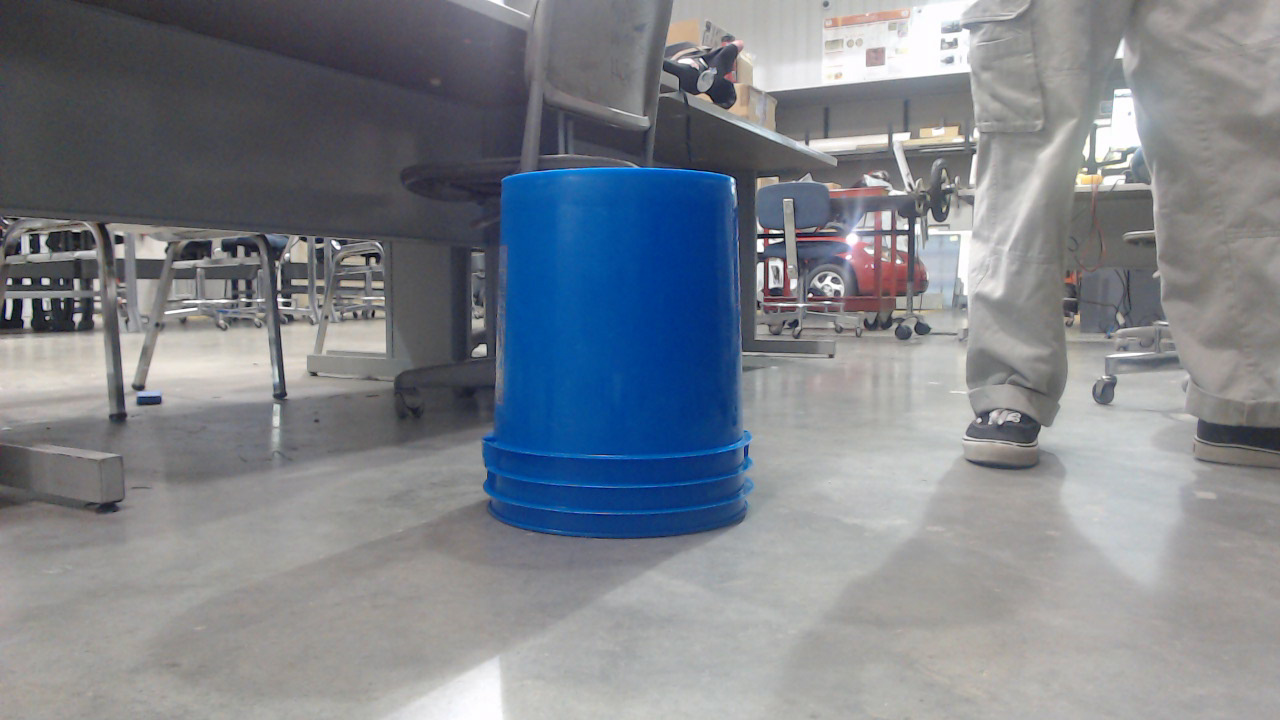blue_bucket: (482, 166, 762, 550)
